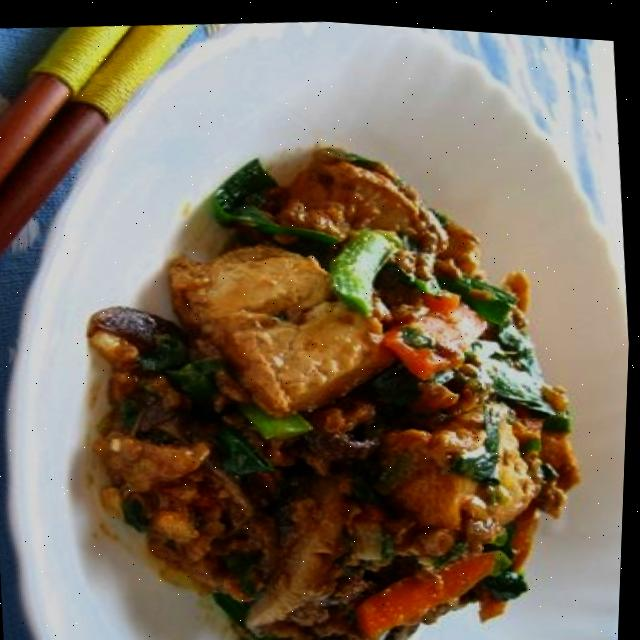豆腐料理: (63, 107, 627, 640)
